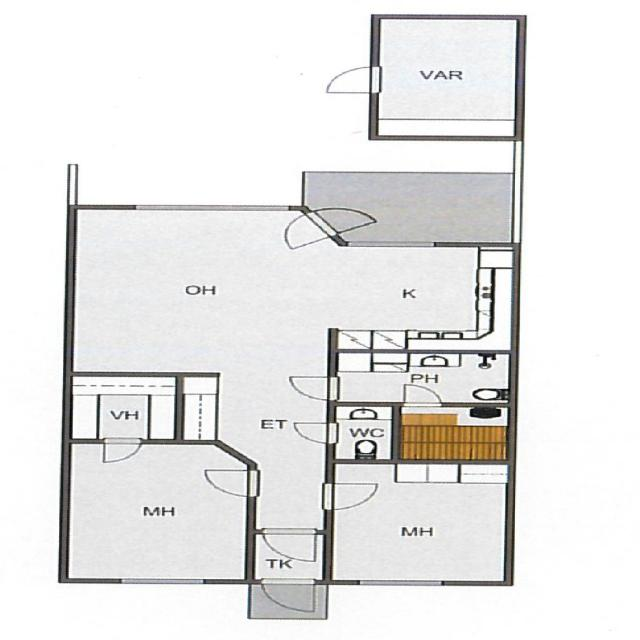door: (305, 197, 380, 237), (264, 211, 338, 250), (262, 581, 314, 614), (263, 529, 315, 562), (328, 483, 384, 510), (323, 67, 378, 93), (200, 471, 253, 496), (286, 377, 336, 400), (292, 423, 336, 443), (105, 440, 141, 464), (405, 383, 440, 406)
